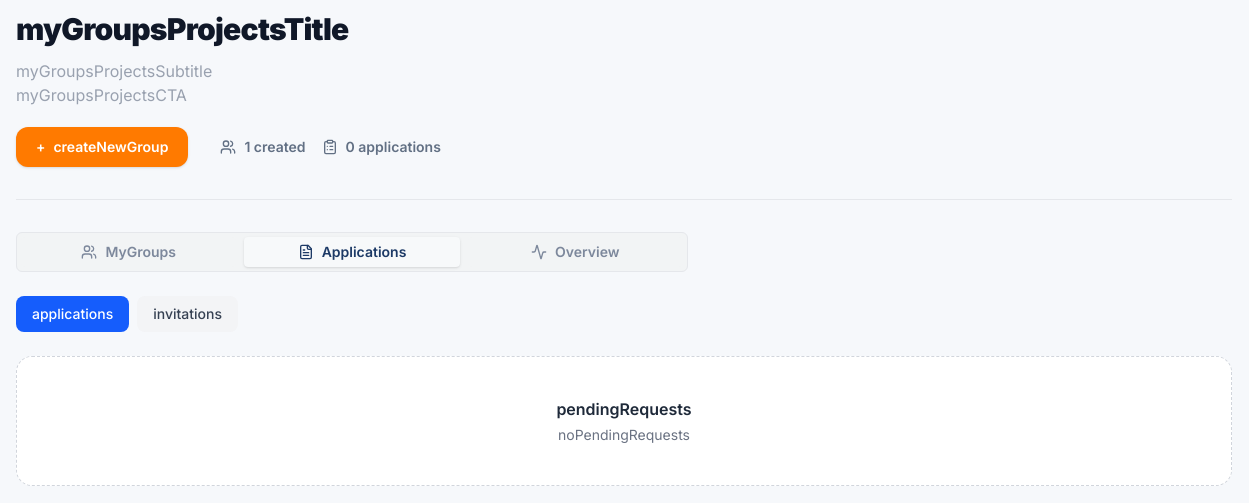
Test: MyGroupsPage Report5 › UTC27 [N] Switch application sub-tab => Changes to invitations
Click the button "invitations" at (188, 314), box top-left (137, 296), bottom-right (238, 332)
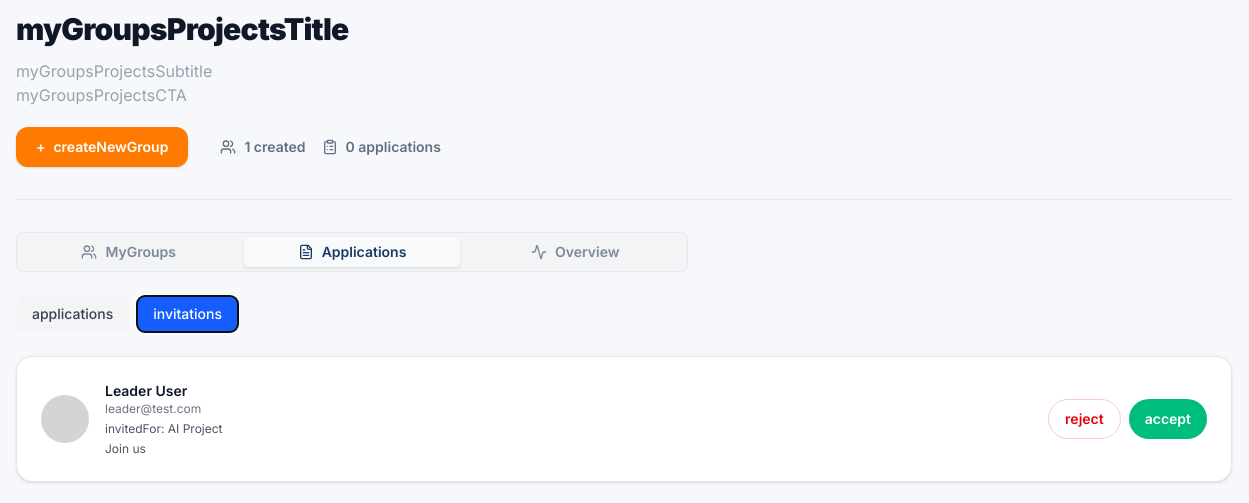
Now the text "Leader User" is shown, box top-left (105, 382), bottom-right (187, 399)
